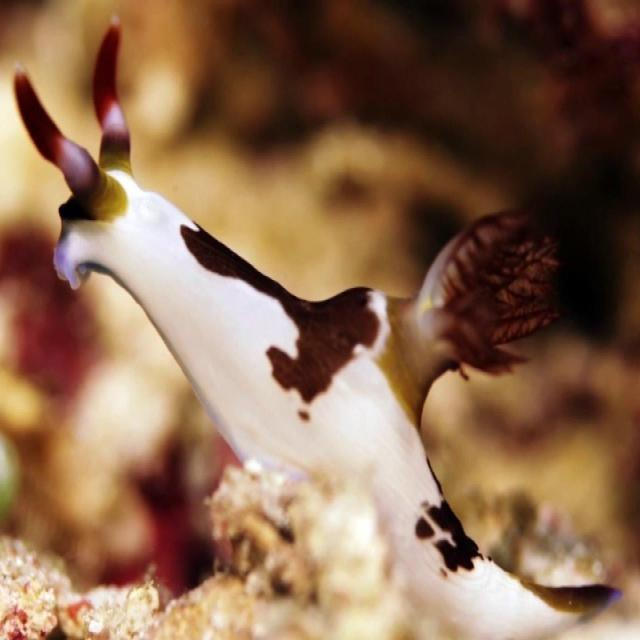reefs: (12, 18, 623, 637)
